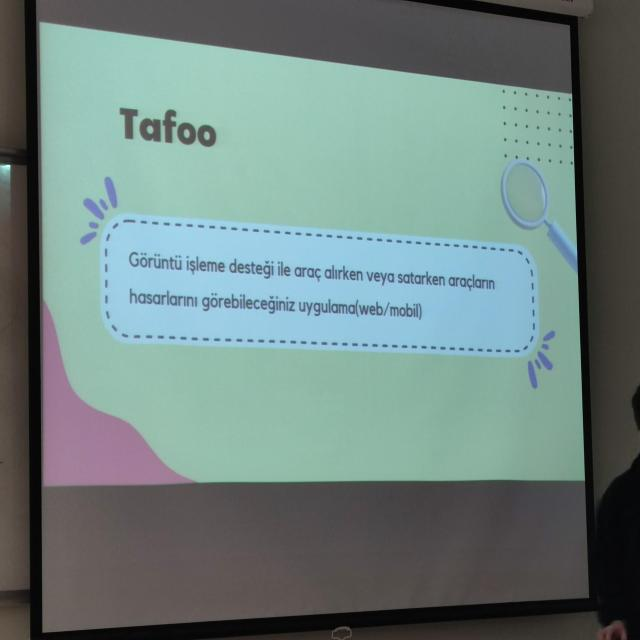text: (122, 243, 505, 330), (110, 97, 224, 162)
